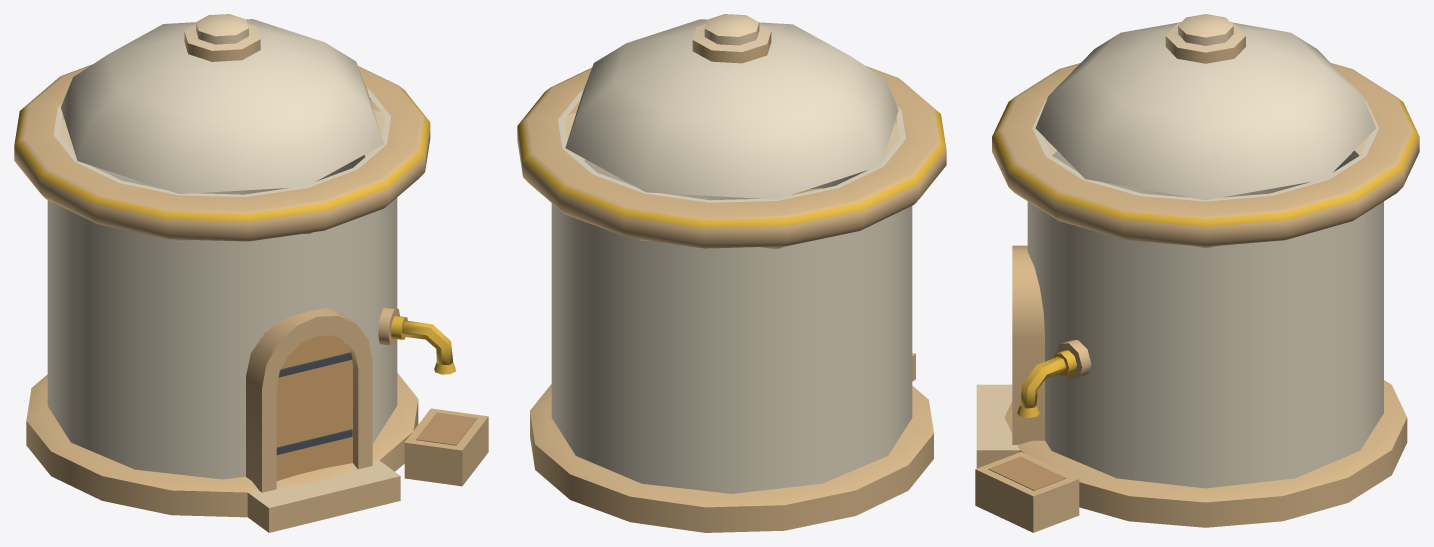
File: old-cistern.lod1.glb
3 renders of one model, left to right at view 1: azimuth 30°, elevation 25°; view 2: azimuth 150°, elevation 25°; view 3: azimuth 270°, elevation 25°, orthographic. The views are drawn at different scales.
Visible parts, largest first — view 1: old-cistern_lod1; view 2: old-cistern_lod1; view 3: old-cistern_lod1.
Boxes of the visible parts, x1,y1,x2,y2 form: old-cistern_lod1: (14,14,488,532); old-cistern_lod1: (517,14,946,532); old-cistern_lod1: (975,14,1419,532).
Size of the model in its own units: 2.76 by 3 by 2.87.
